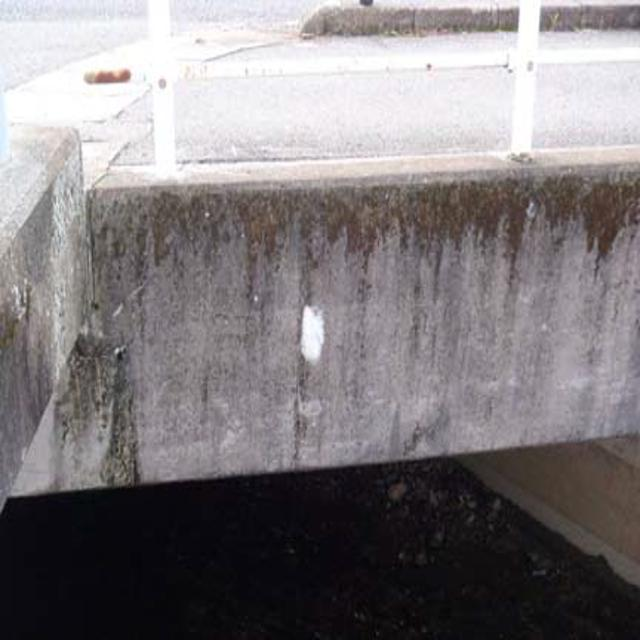freelime: (287, 293, 327, 371)
